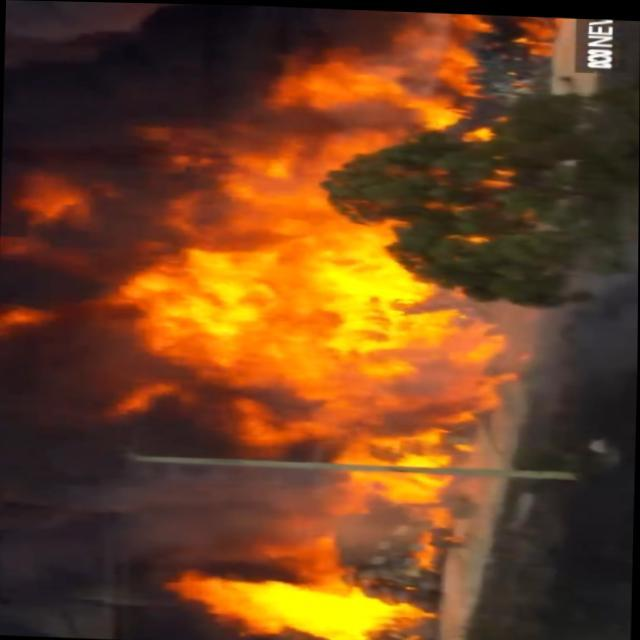fire: (0, 6, 524, 640)
